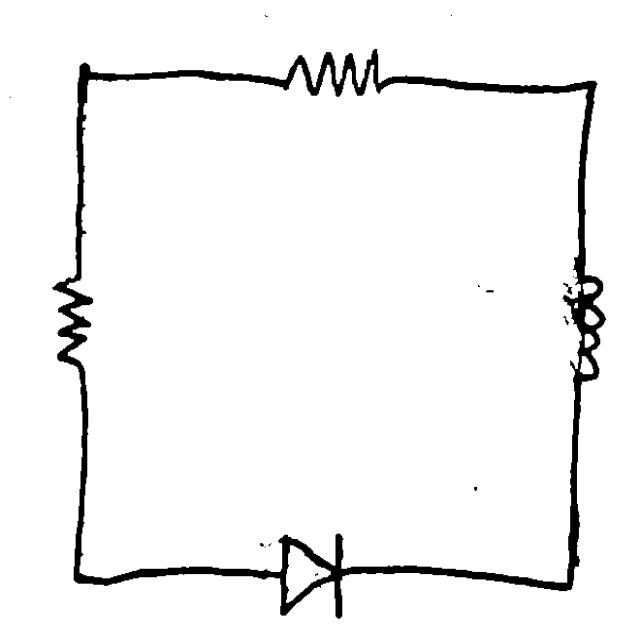diode: (261, 518, 361, 632)
inductor: (540, 241, 620, 395)
resistor: (270, 39, 397, 121), (27, 258, 112, 378)
